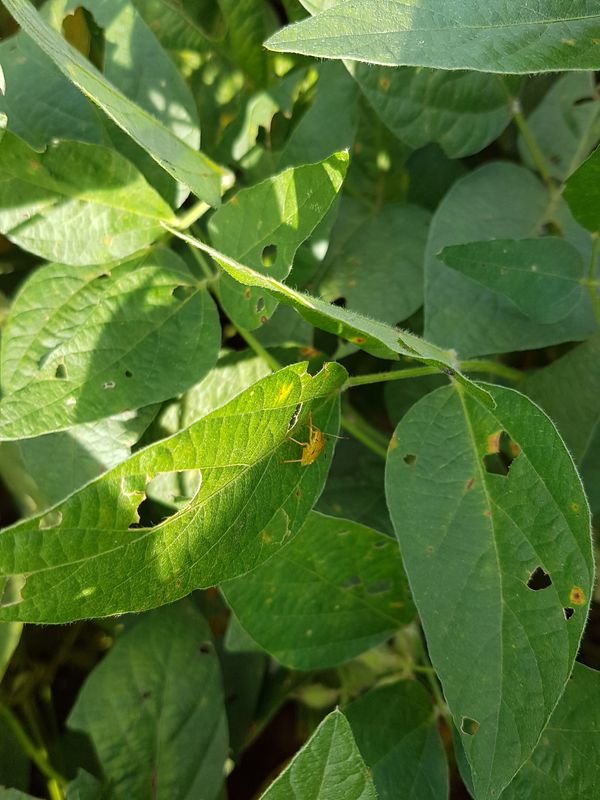Euschistus_heros_ninfa: (275, 405, 351, 482)
